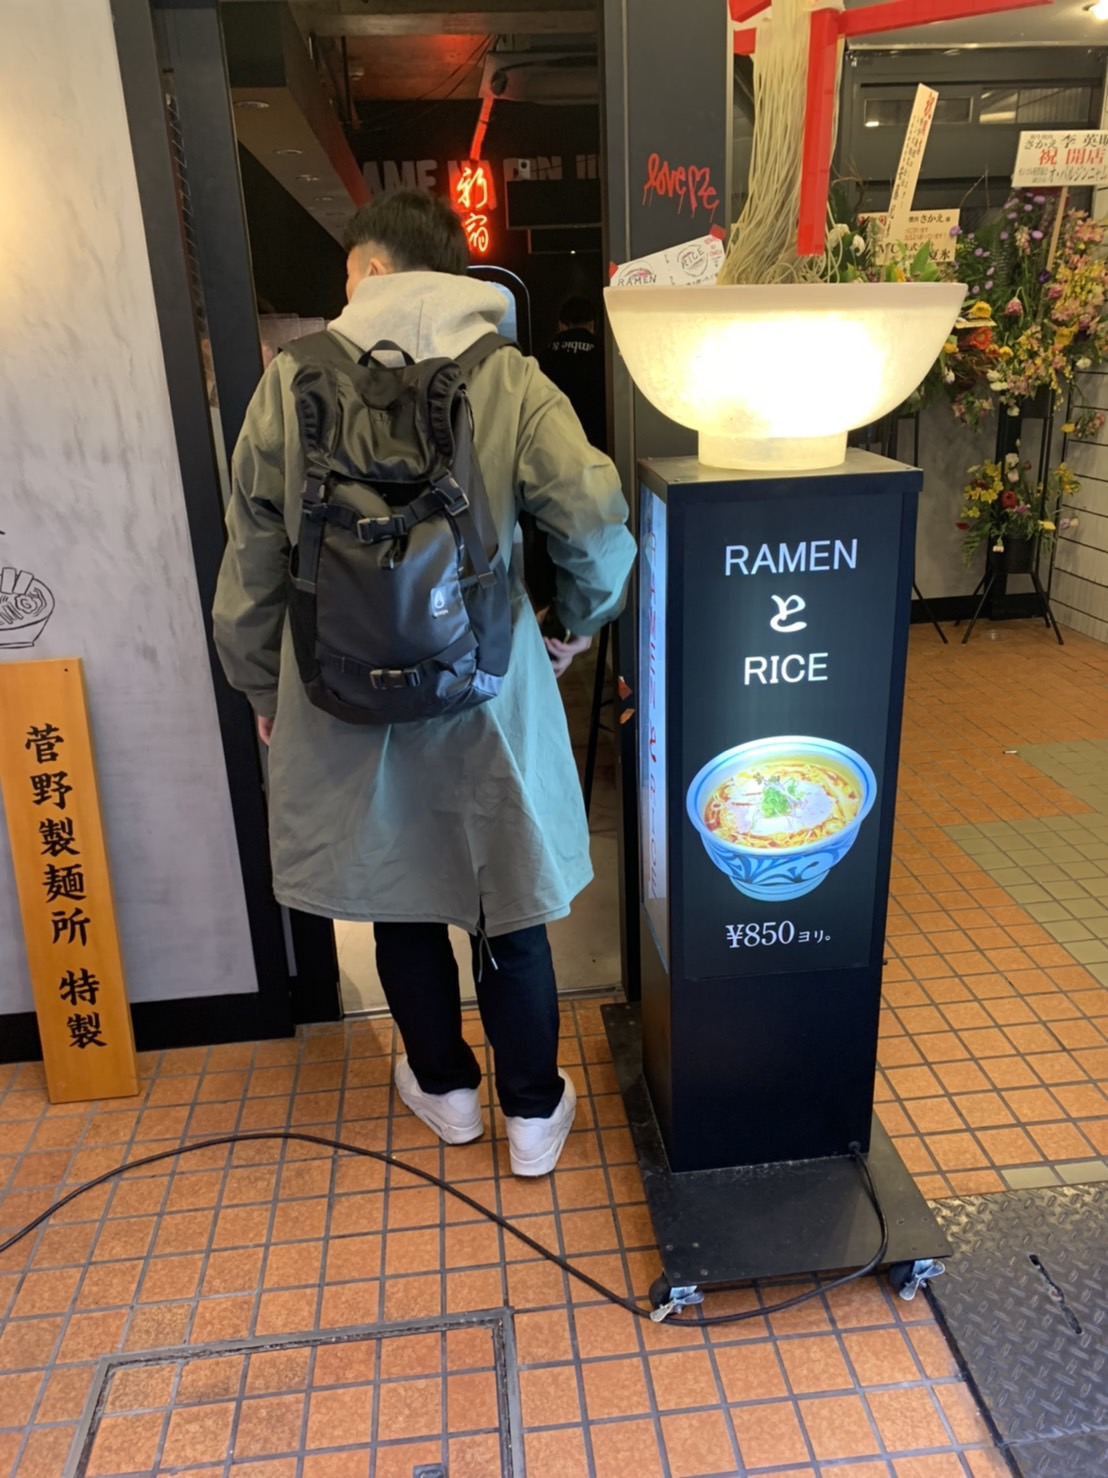male: (186, 183, 637, 1188)
